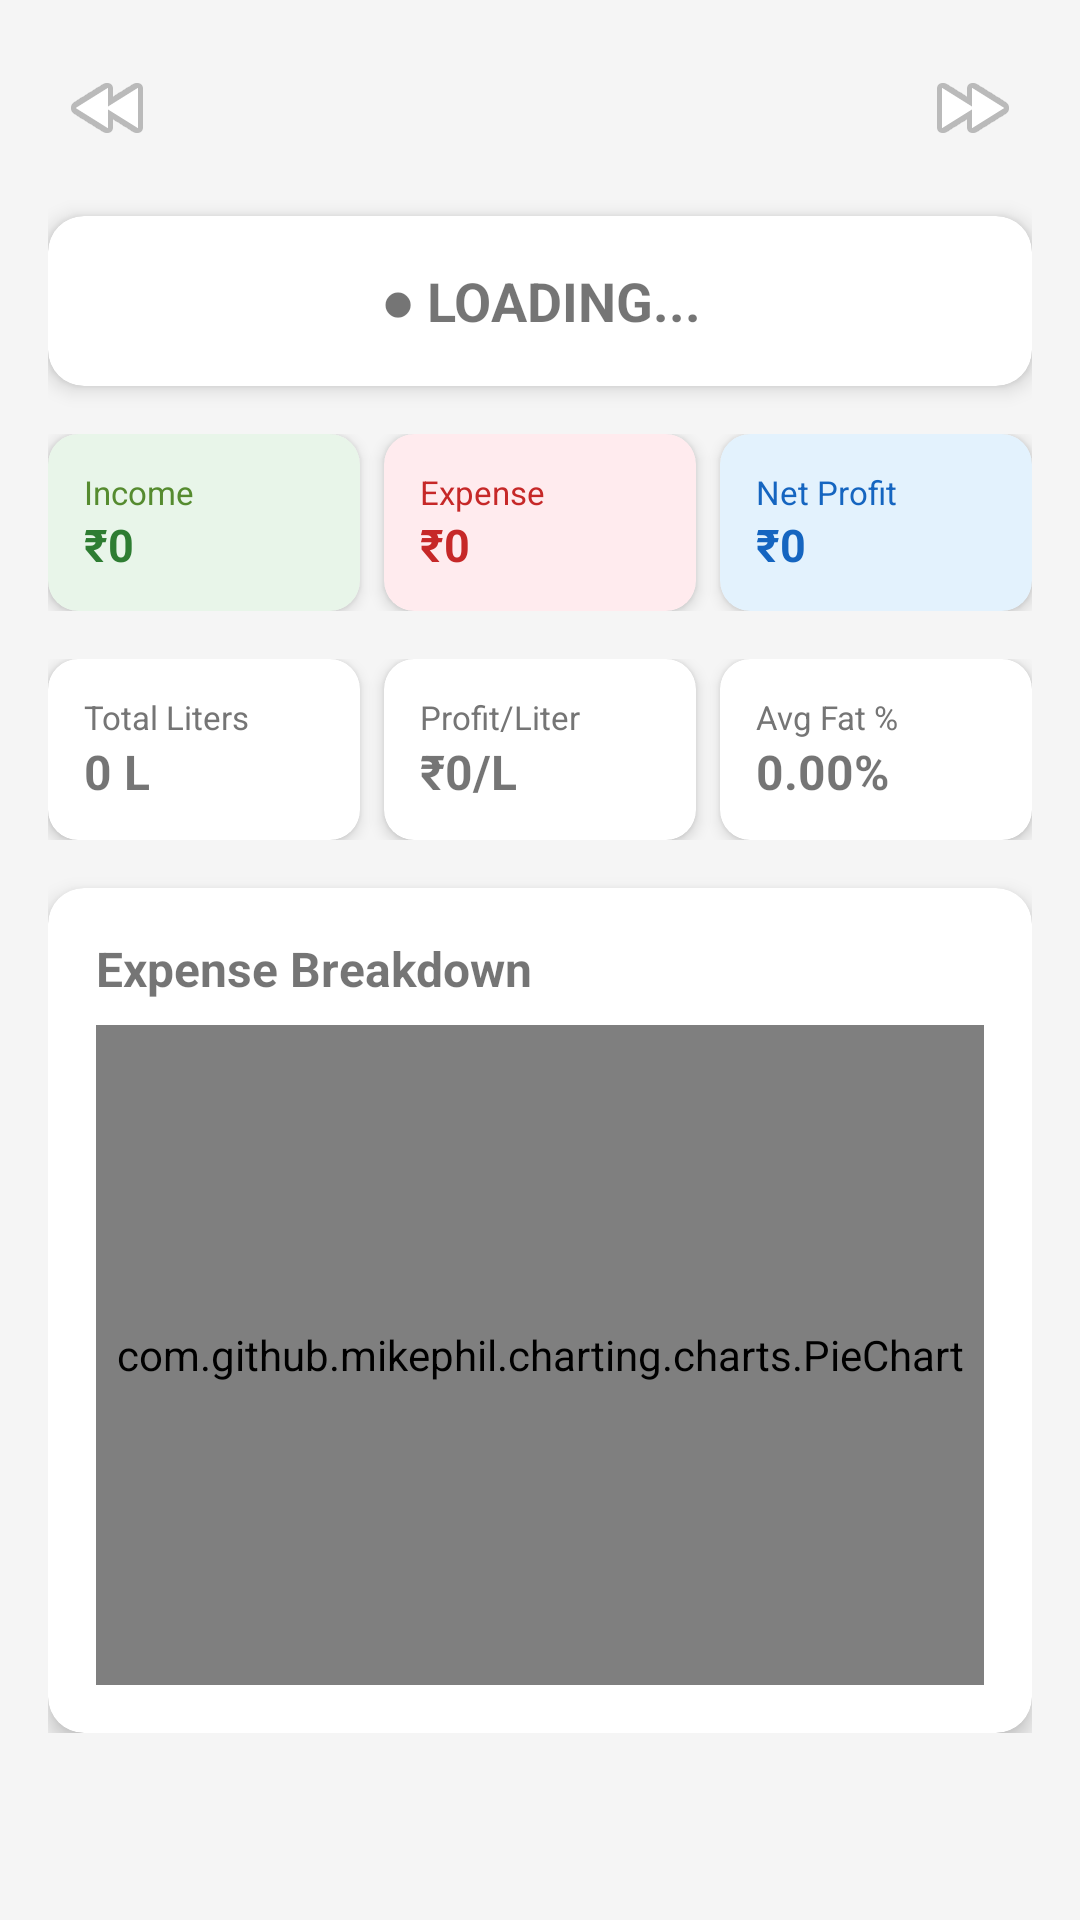

Screen size 1080px×1920px. Icon name, then its box in pixels as (x1, y1, x2, y2):
rew: (71, 83, 143, 133)
